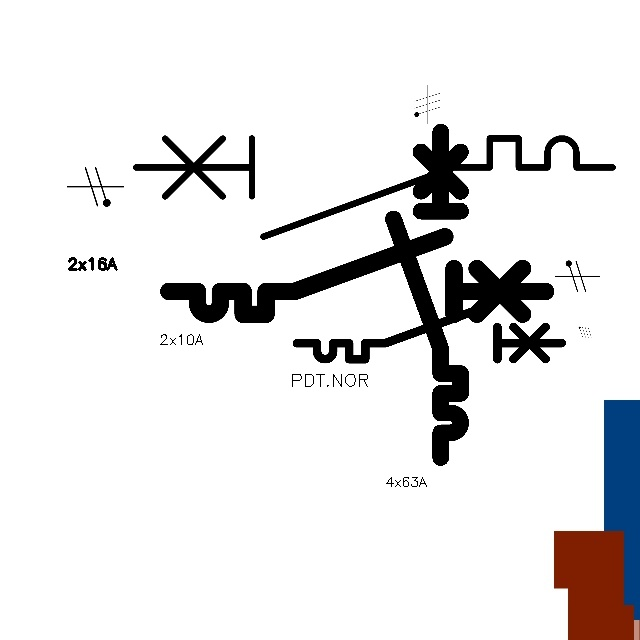interruptor_termomagnetico: (123, 126, 624, 248), (159, 227, 555, 324), (385, 123, 469, 465), (290, 298, 569, 366)
